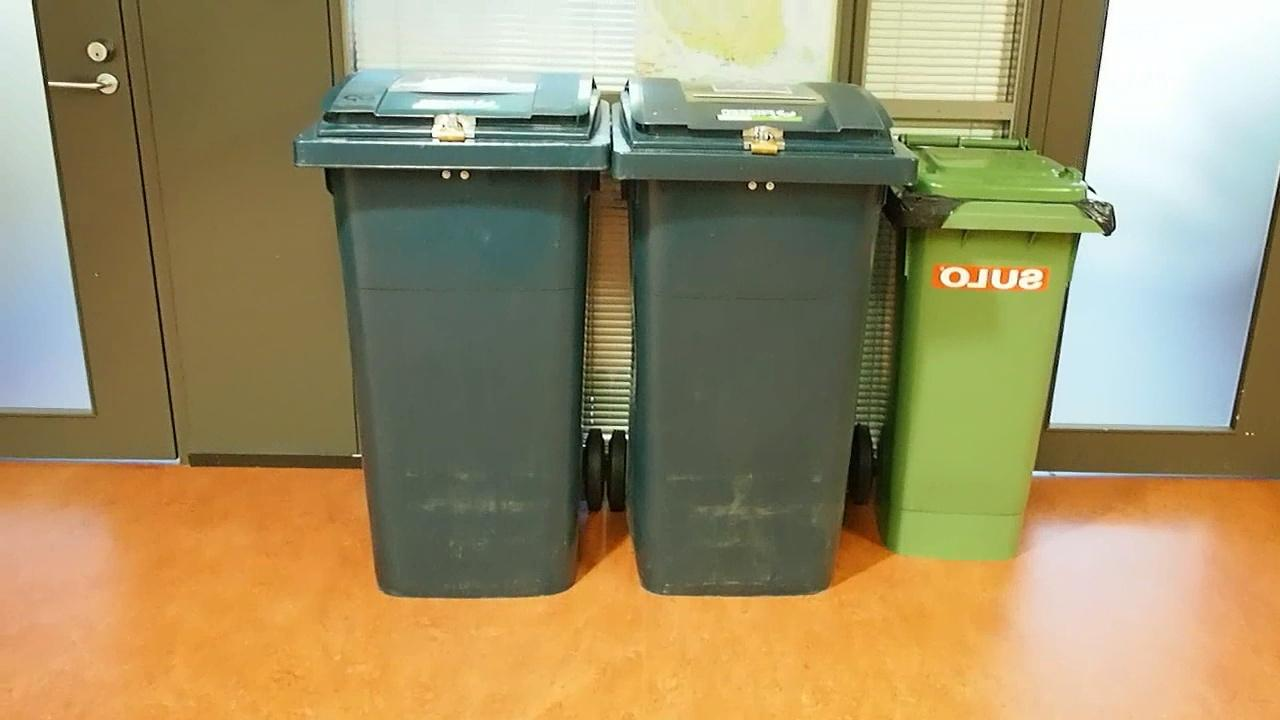trashbin: (299, 45, 608, 610), (611, 71, 897, 607), (885, 141, 1111, 566)
